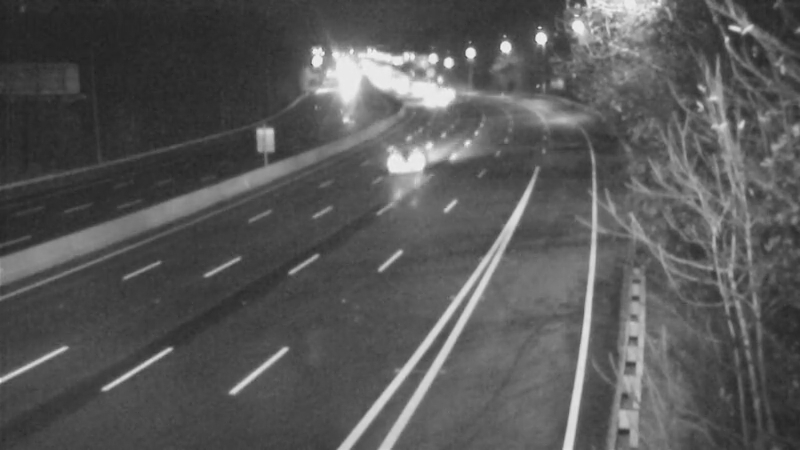vehicle: (369, 119, 449, 199), (401, 66, 451, 116), (421, 68, 471, 118), (408, 79, 458, 129)
